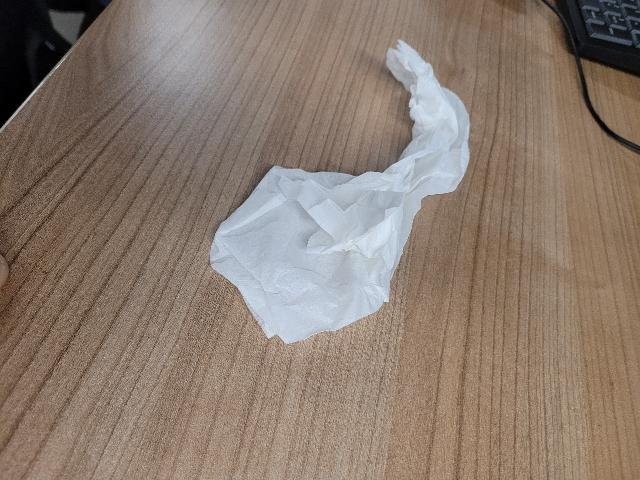Kagit: (231, 22, 472, 344)
